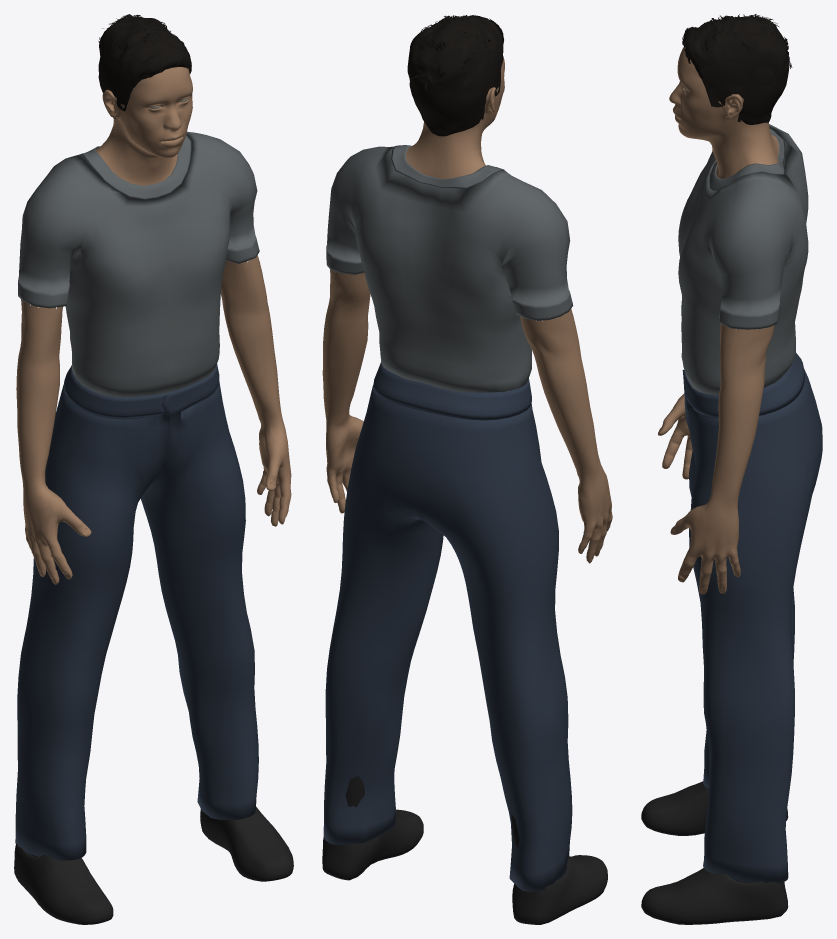
The model's file is average.glb.
3 renders of one model, left to right at view 1: azimuth 30°, elevation 25°; view 2: azimuth 150°, elevation 25°; view 3: azimuth 270°, elevation 25°, orthographic. The views are drawn at different scales.
Parts seen in each view (by area): view 1: Pants, Shirt, Skin, Shoes, Head, Hair; view 2: Pants, Shirt, Skin, Hair, Shoes, Head; view 3: Pants, Shirt, Skin, Shoes, Hair, Head.
Part boxes in pixels (bbox=[...]): Pants: bbox=[15, 364, 258, 860]; Shirt: bbox=[18, 131, 259, 397]; Skin: bbox=[16, 255, 291, 584]; Shoes: bbox=[14, 806, 293, 924]; Head: bbox=[96, 67, 192, 185]; Hair: bbox=[98, 14, 191, 118]; Pants: bbox=[323, 362, 572, 891]; Shirt: bbox=[326, 145, 573, 392]; Skin: bbox=[322, 269, 612, 563]; Hair: bbox=[407, 15, 503, 136]; Shoes: bbox=[322, 776, 607, 924]; Head: bbox=[405, 57, 504, 179]; Pants: bbox=[682, 353, 822, 883]; Shirt: bbox=[678, 124, 808, 395]; Skin: bbox=[658, 324, 774, 594]; Shoes: bbox=[641, 781, 788, 924]; Hair: bbox=[682, 14, 792, 124]; Head: bbox=[669, 47, 778, 178].
Size of the model in its own units: 0.5685 by 1.76 by 0.3391.
